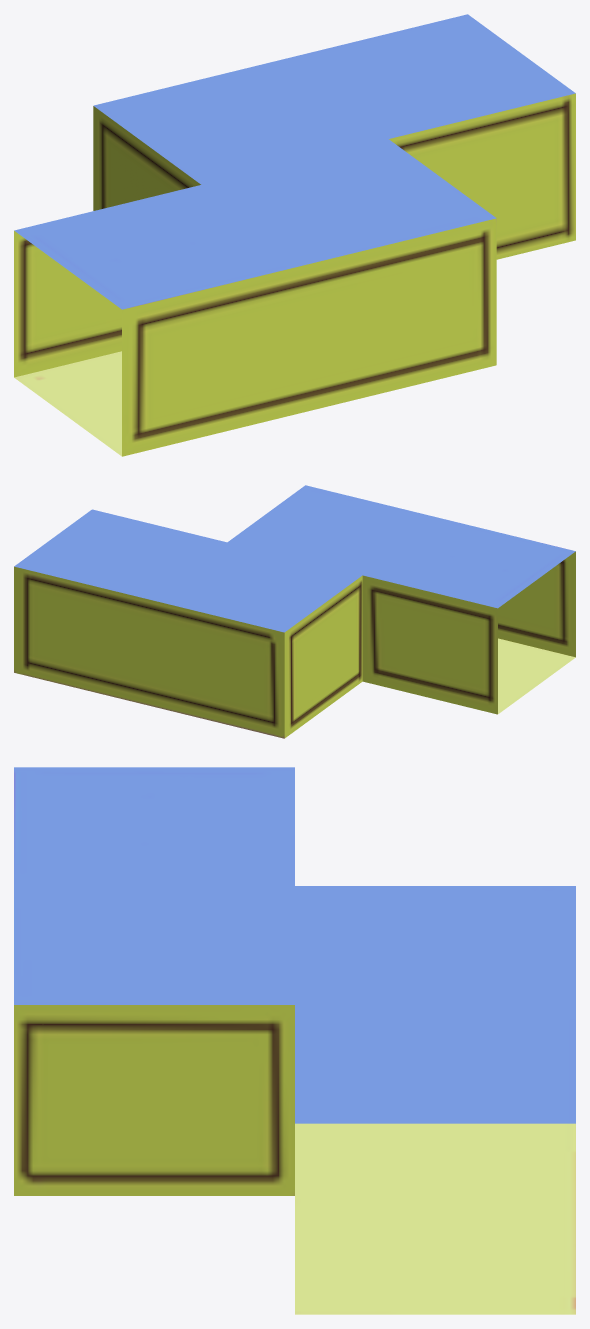
The model's file is Pasillo_1.obj.
3 renders of one model, top to bottom at view 1: azimuth 30°, elevation 25°; view 2: azimuth 150°, elevation 25°; view 3: azimuth 270°, elevation 25°, orthographic. The views are drawn at different scales.
Parts seen in each view (by area): view 1: Pasillo_1; view 2: Pasillo_1; view 3: Pasillo_1.
Boxes of the visible parts, x1,y1,x2,y2 form: Pasillo_1: [14, 14, 575, 456]; Pasillo_1: [14, 485, 575, 738]; Pasillo_1: [14, 767, 575, 1314].
Size of the model in its own units: 21.6 by 5.4 by 14.4.
